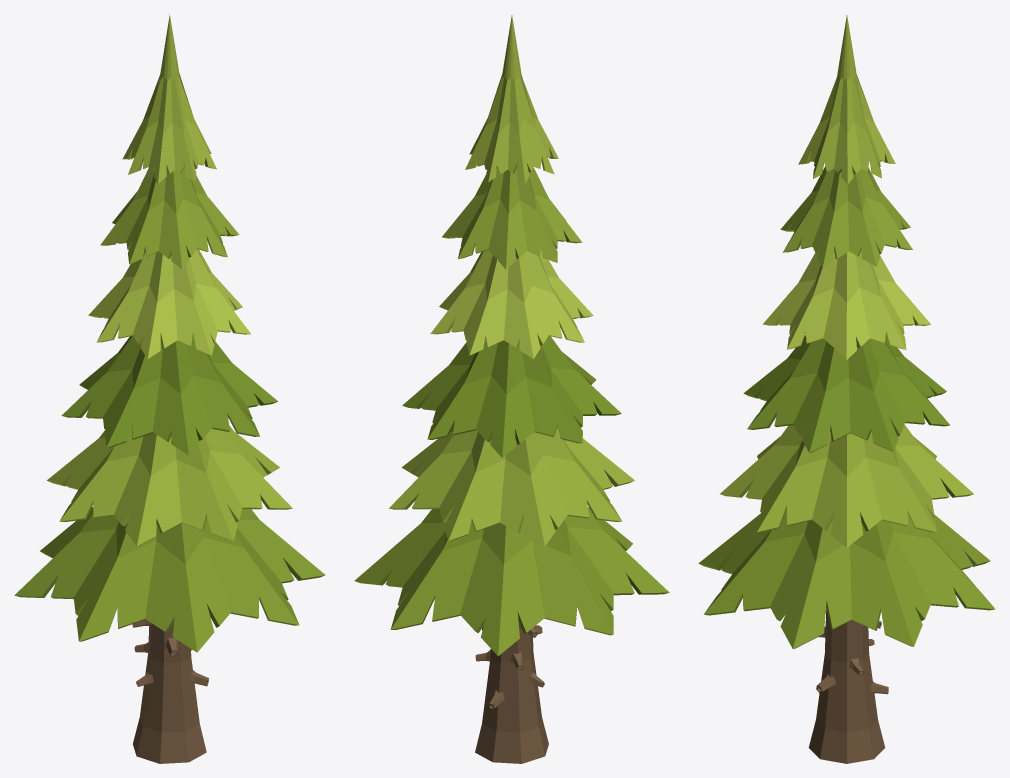
Rendered from NHP_Tree_LP_B1_7.5m_01.fbx.
The picture shows the model from 3 angles, left to right: view 1: azimuth 30°, elevation 25°; view 2: azimuth 150°, elevation 25°; view 3: azimuth 270°, elevation 25°; orthographic projection.
Visible parts, largest first — view 1: NHP_Tree_LP_B1_7.5m_01_LOD0; view 2: NHP_Tree_LP_B1_7.5m_01_LOD0; view 3: NHP_Tree_LP_B1_7.5m_01_LOD0.
Part boxes in pixels (x1,y1,x2,y2): NHP_Tree_LP_B1_7.5m_01_LOD0: (14, 14, 325, 763); NHP_Tree_LP_B1_7.5m_01_LOD0: (354, 15, 669, 763); NHP_Tree_LP_B1_7.5m_01_LOD0: (698, 15, 995, 763).
Size of what is drawn, in the model's own units: 2.86 by 7.8 by 2.87.
